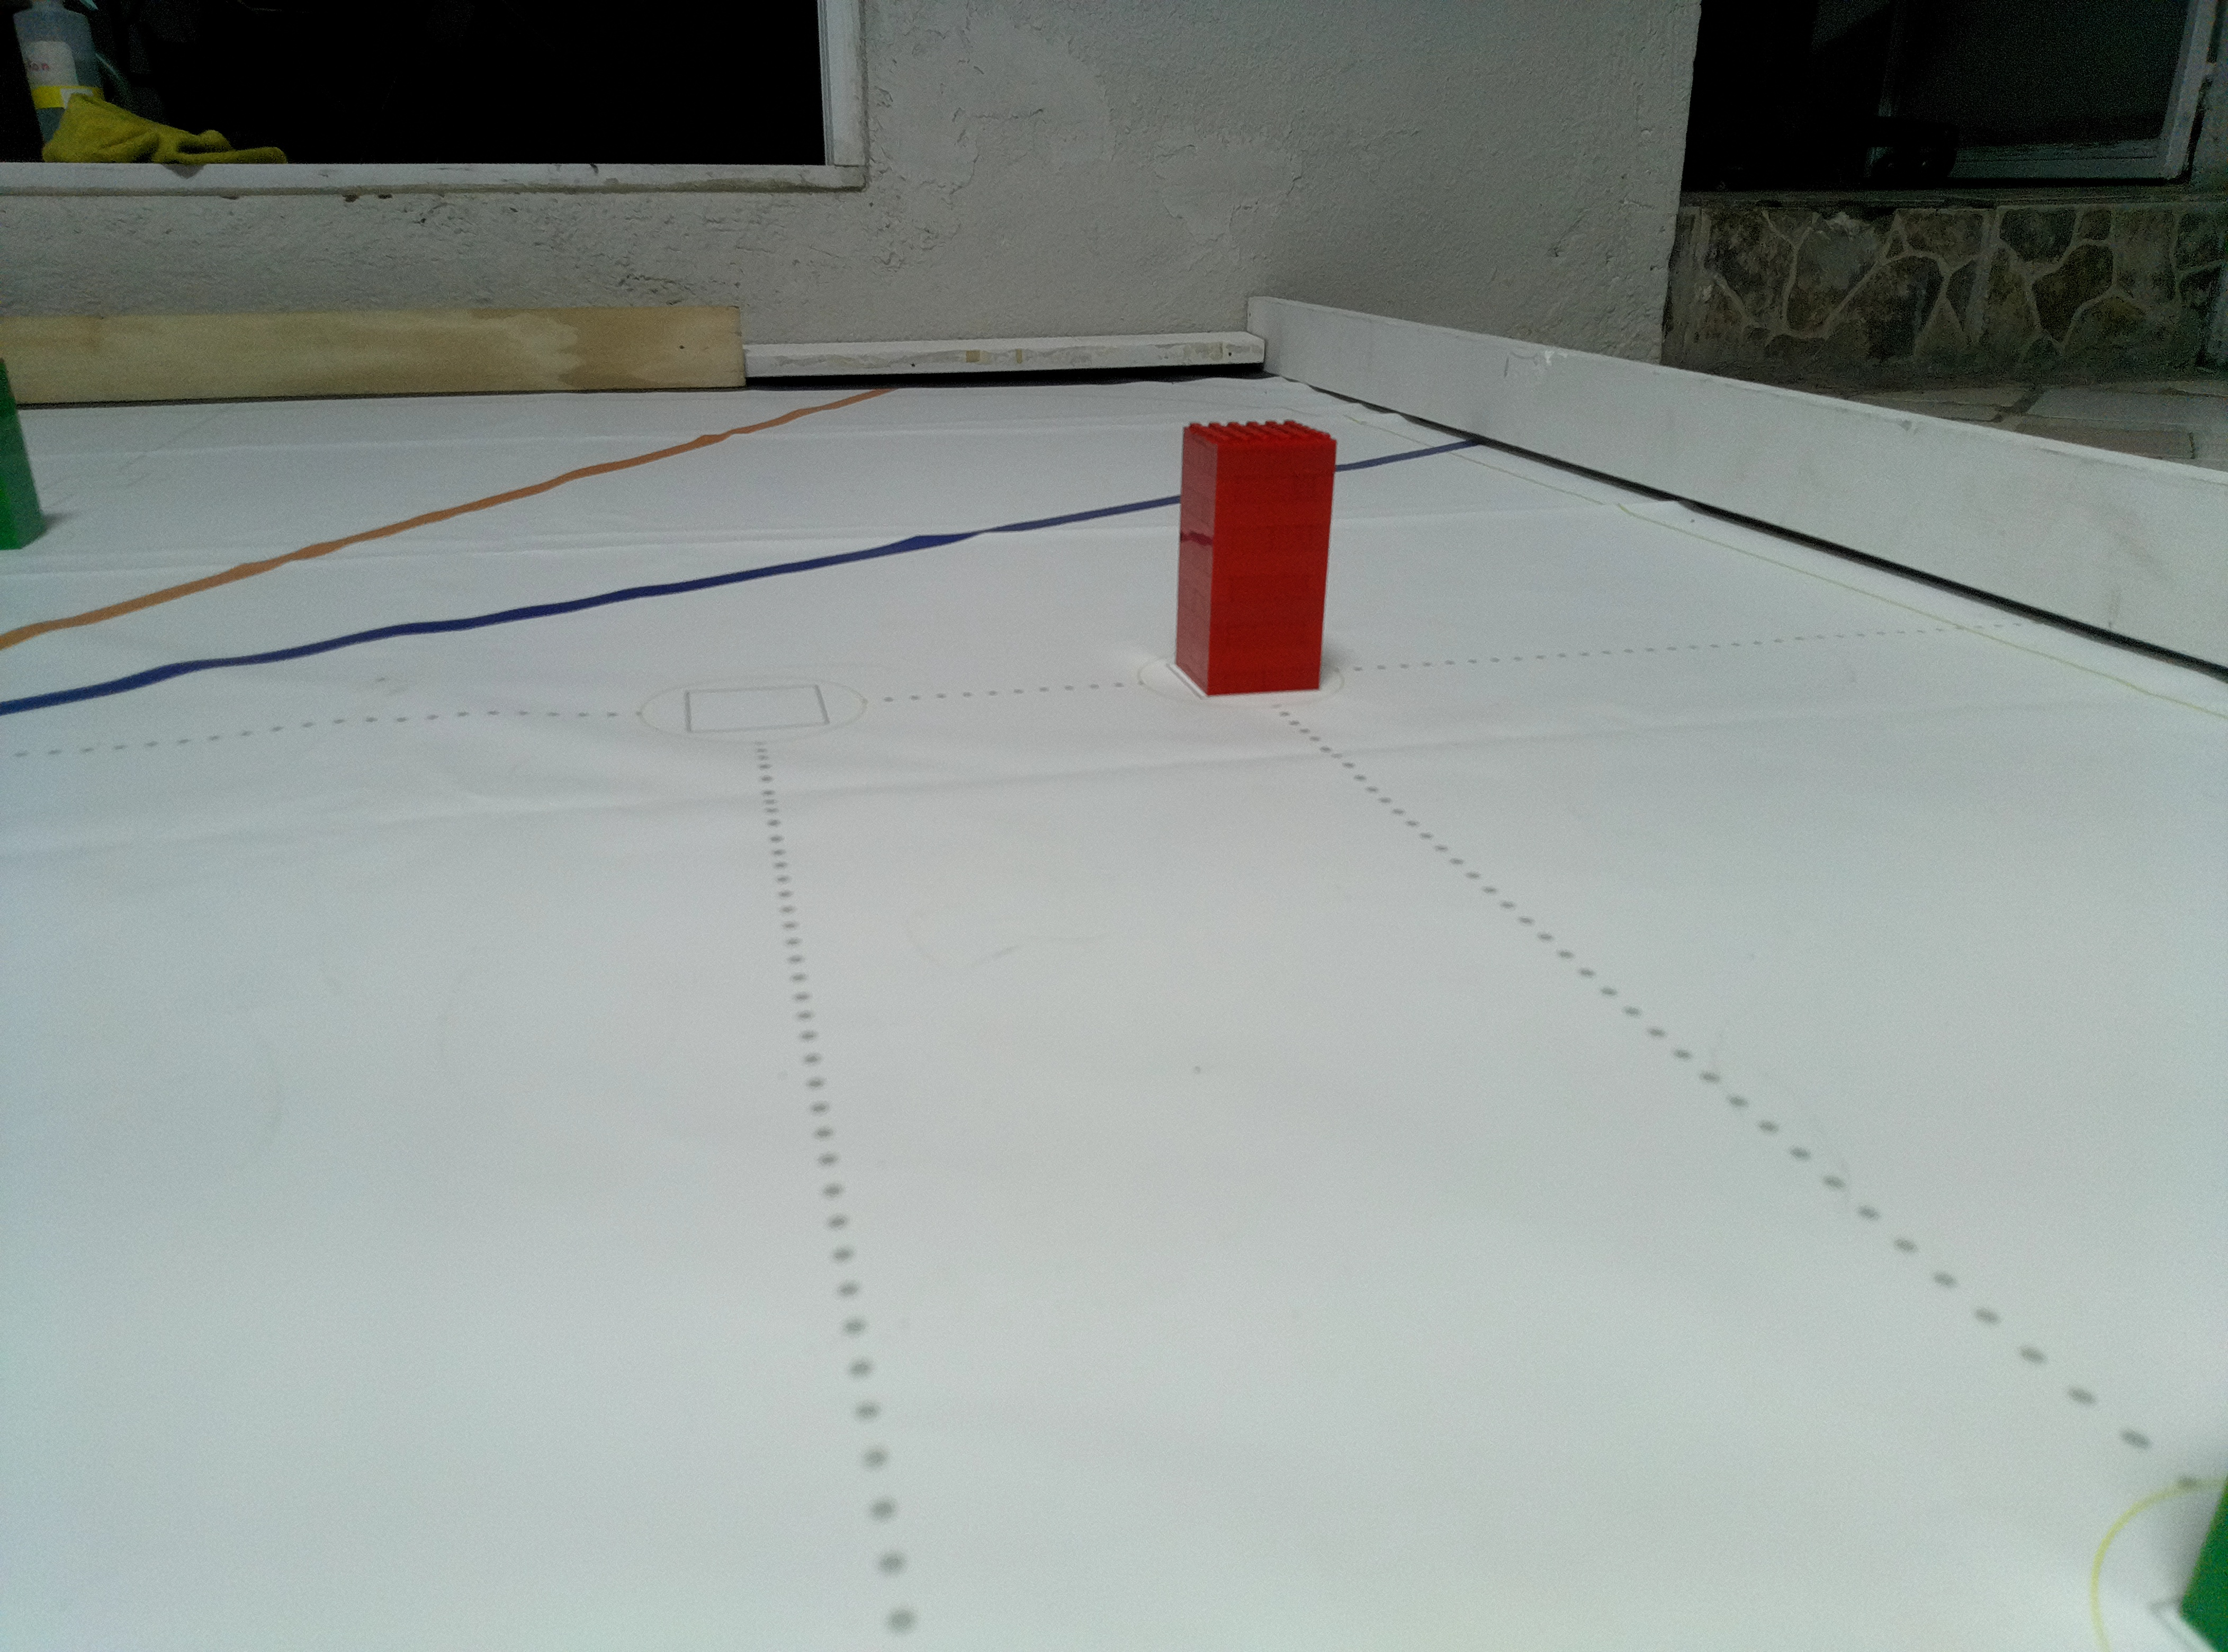greenbox: (0, 349, 54, 550), (2172, 1459, 2228, 1652)
redbox: (1170, 415, 1340, 701)
